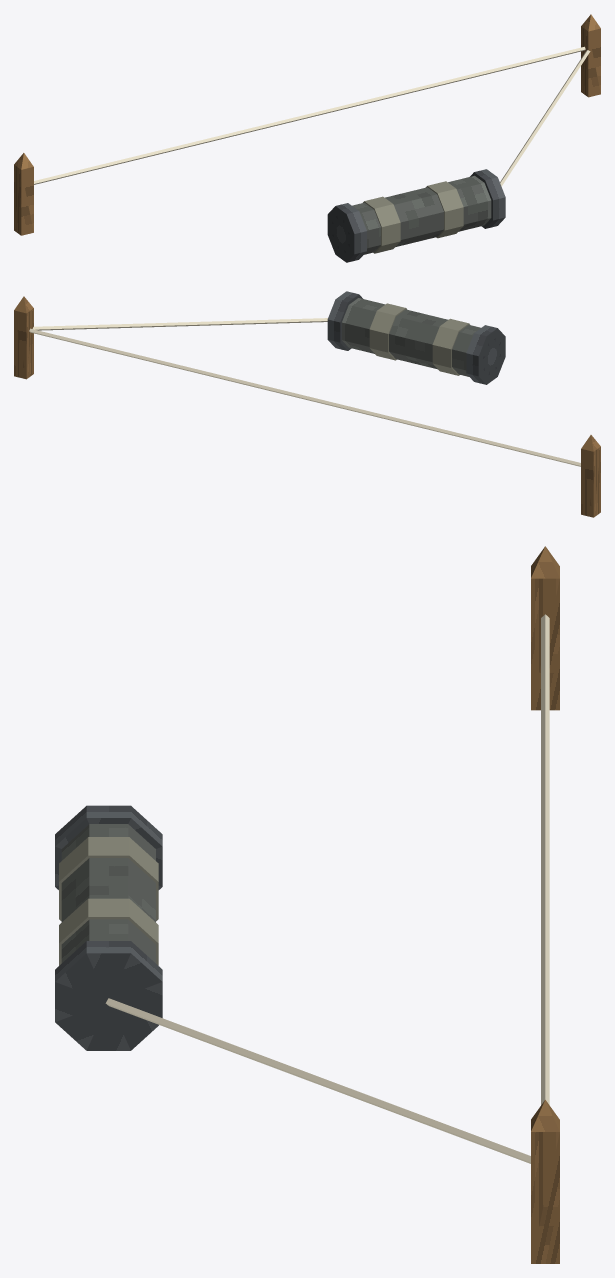
File: tr_boobytrap.glb
The picture shows the model from 3 angles, top to bottom: view 1: azimuth 30°, elevation 25°; view 2: azimuth 150°, elevation 25°; view 3: azimuth 270°, elevation 25°; orthographic projection. The views are drawn at different scales.
Visible parts, largest first — view 1: block_pipe bomb, block_string (×2), block_stake (×2), block_end cap (×2), block_tape (×2); view 2: block_pipe bomb, block_string (×2), block_stake (×2), block_end cap (×2), block_tape (×2); view 3: block_end cap (×2), block_stake (×2), block_string (×2), block_pipe bomb, block_tape (×2).
Boxes of the visible parts, x1,y1,x2,y2 form: block_pipe bomb: [352, 175, 491, 254]; block_string (×2): [34, 46, 590, 186]; block_stake (×2): [14, 14, 600, 235]; block_end cap (×2): [327, 169, 505, 262]; block_tape (×2): [363, 181, 463, 253]; block_pipe bomb: [342, 298, 480, 376]; block_string (×2): [29, 318, 580, 466]; block_stake (×2): [14, 296, 600, 517]; block_end cap (×2): [327, 291, 505, 384]; block_tape (×2): [369, 303, 469, 375]; block_end cap (×2): [55, 805, 162, 1050]; block_stake (×2): [531, 546, 559, 1263]; block_string (×2): [105, 614, 549, 1163]; block_pipe bomb: [61, 824, 155, 963]; block_tape (×2): [59, 837, 158, 965].
Bounding box in the file's own units: 0.92 × 0.12 × 0.347.
Materials: 2 (2 with a texture image).
